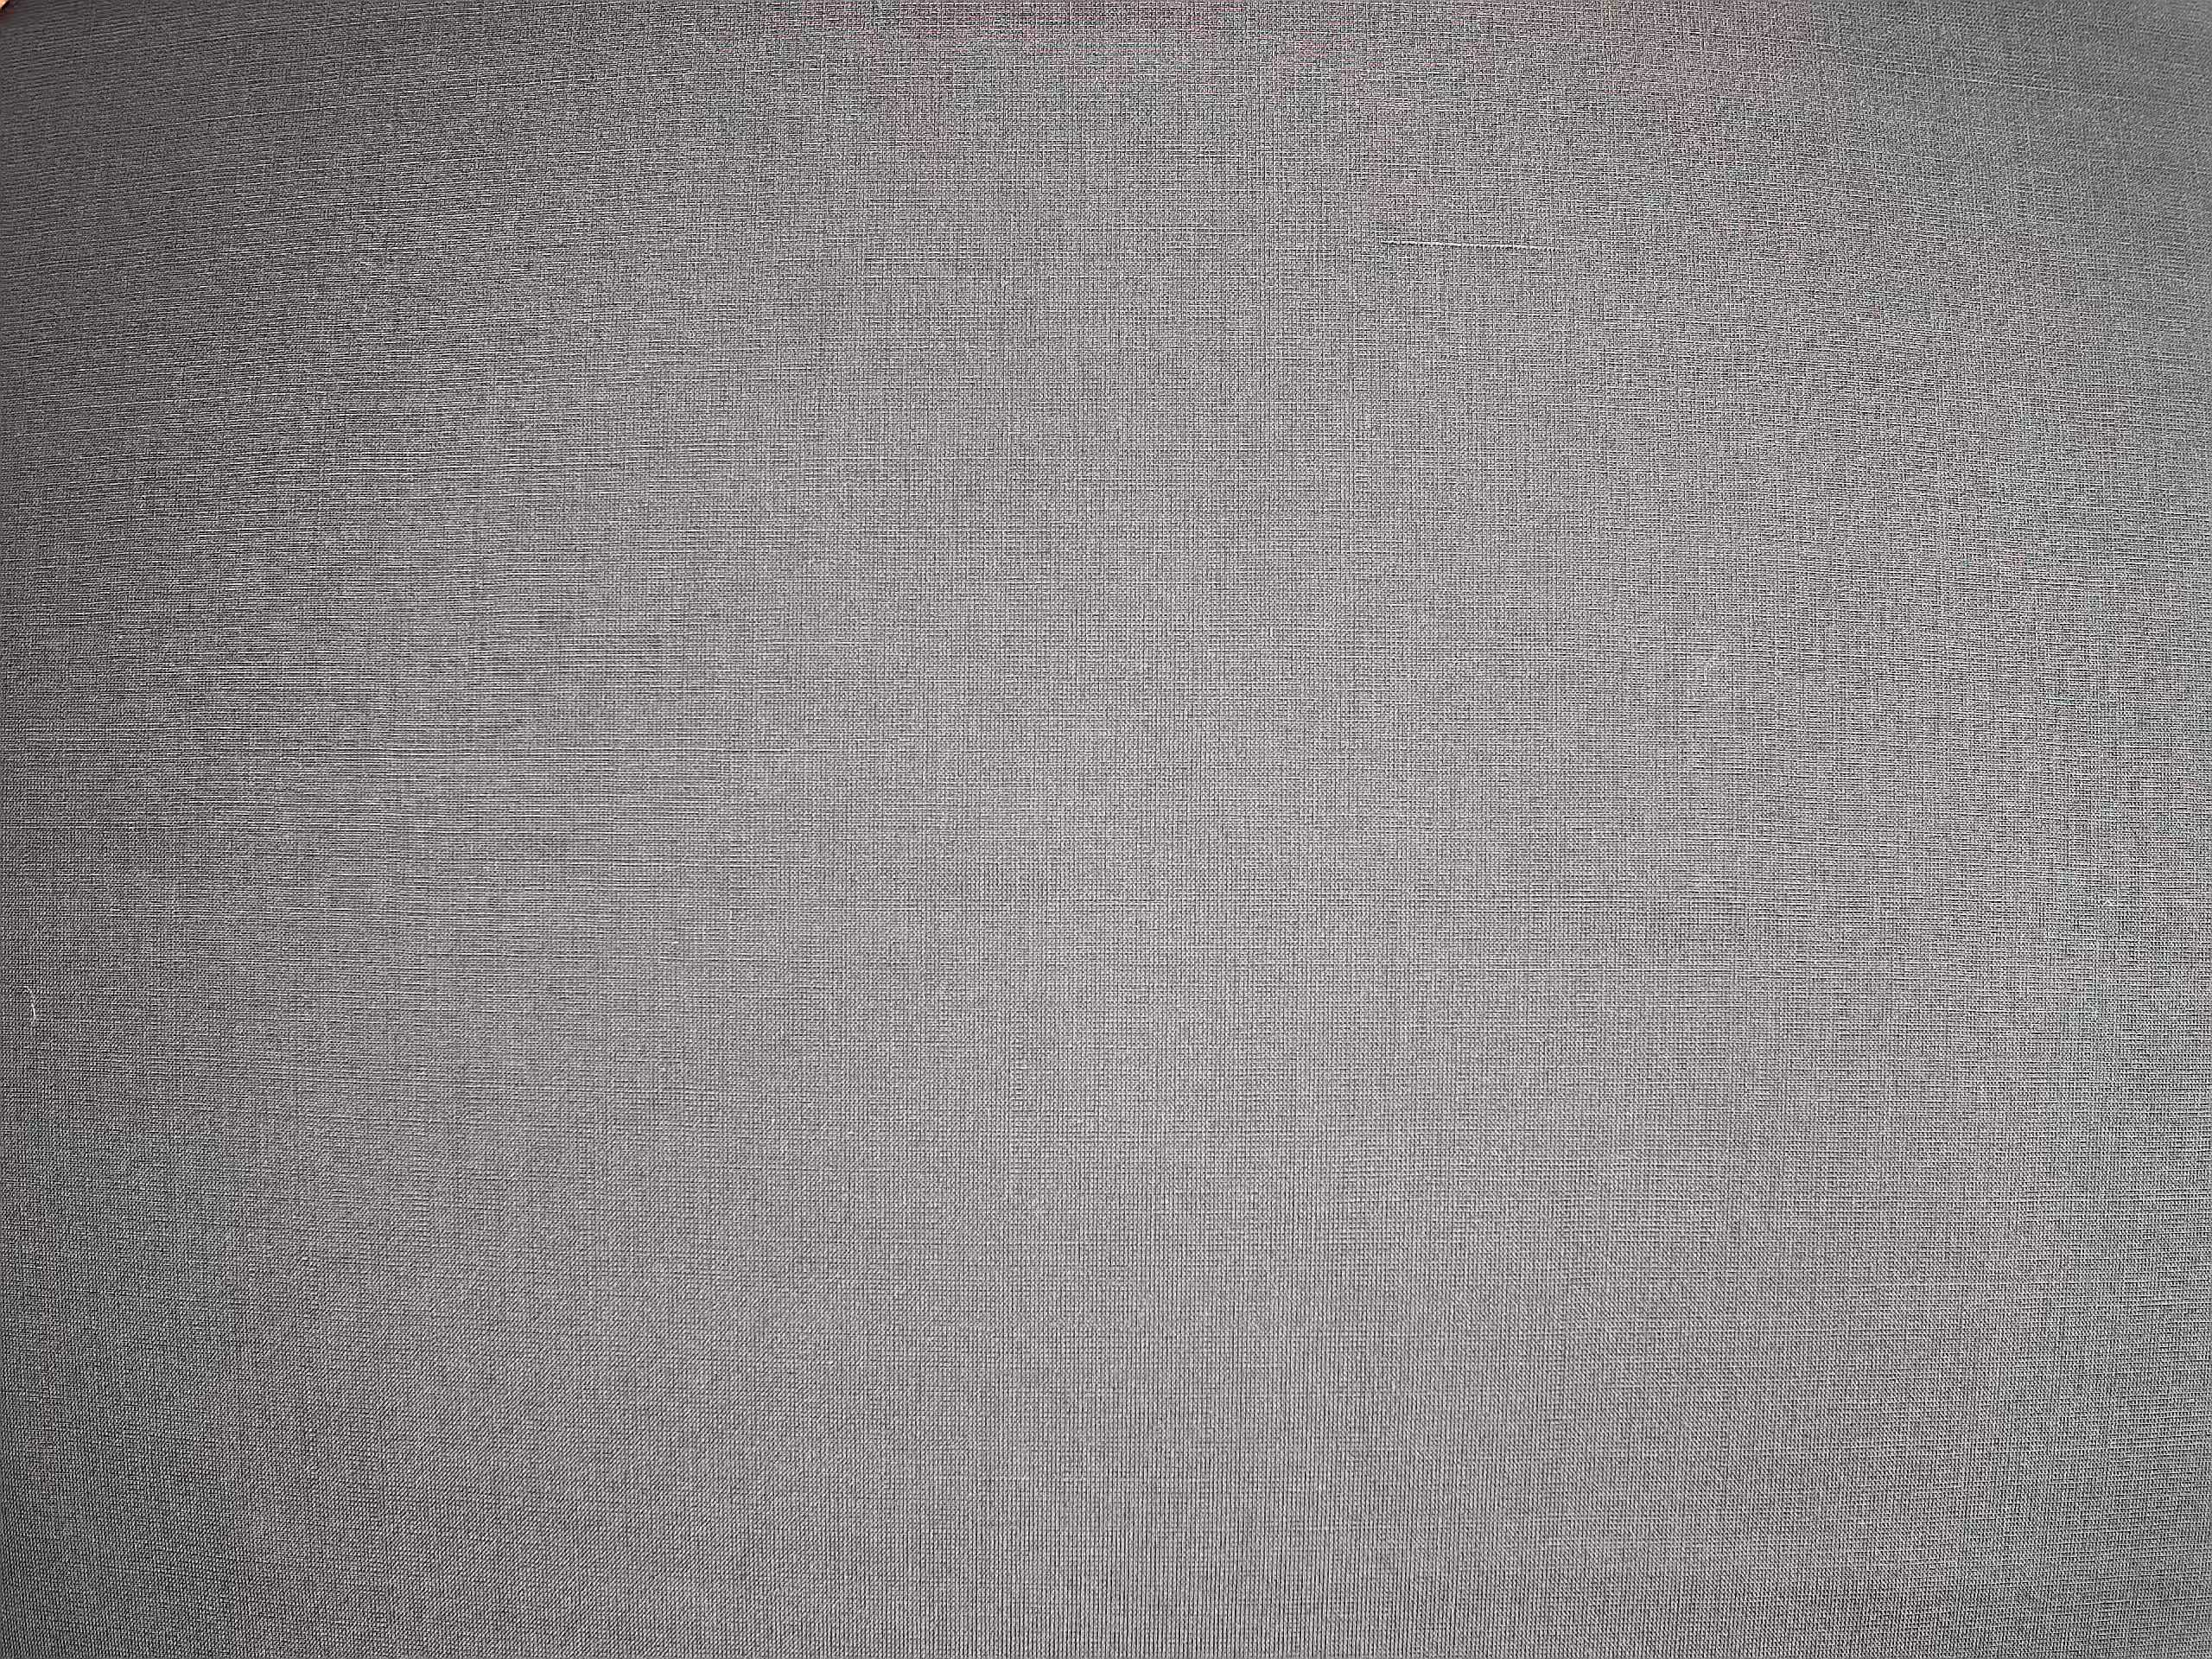others: (1378, 228, 1568, 260)
